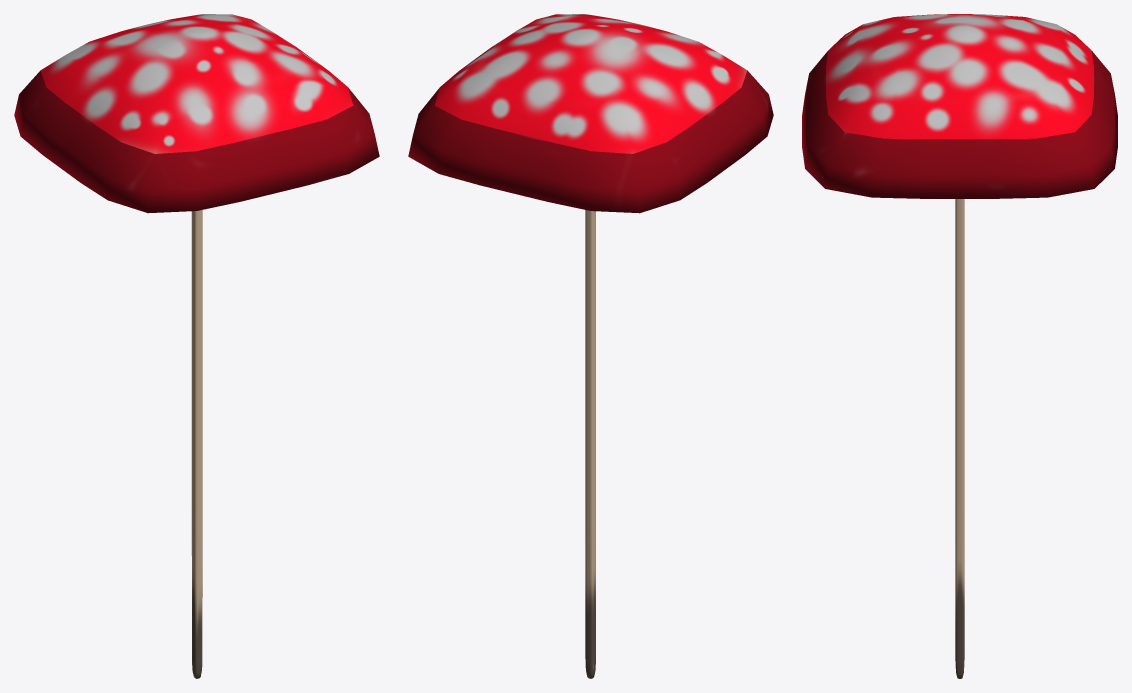
Rendered from mushroom tall.fbx.
3 renders of one model, left to right at view 1: azimuth 30°, elevation 25°; view 2: azimuth 150°, elevation 25°; view 3: azimuth 270°, elevation 25°, orthographic.
Visible parts, largest first — view 1: Mushroom; view 2: Mushroom; view 3: Mushroom.
Boxes of the visible parts, x1,y1,x2,y2 form: Mushroom: [14, 14, 379, 678]; Mushroom: [408, 14, 773, 678]; Mushroom: [802, 14, 1117, 678].
Size of the model in its own units: 9253 by 20992 by 9253.
Materials: 1 (1 with a texture image).
